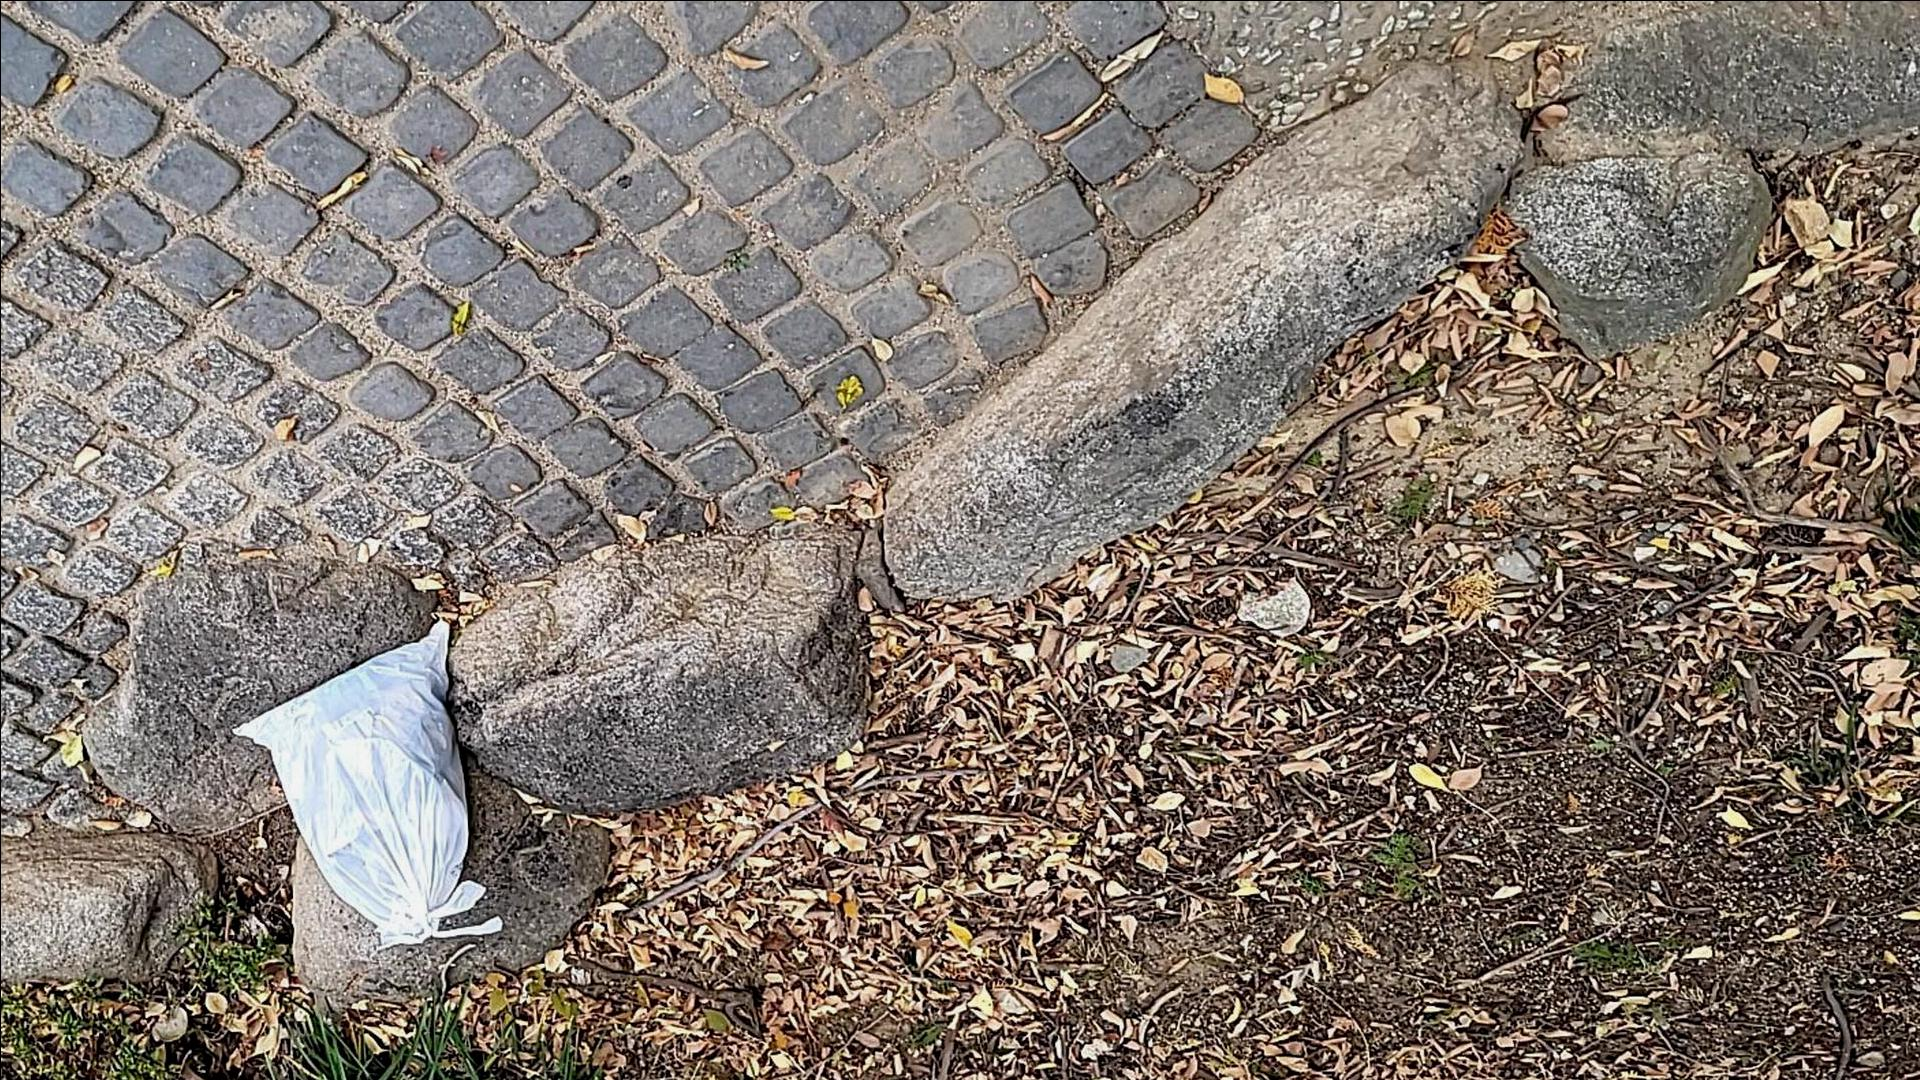white_bag: (222, 616, 513, 953)
